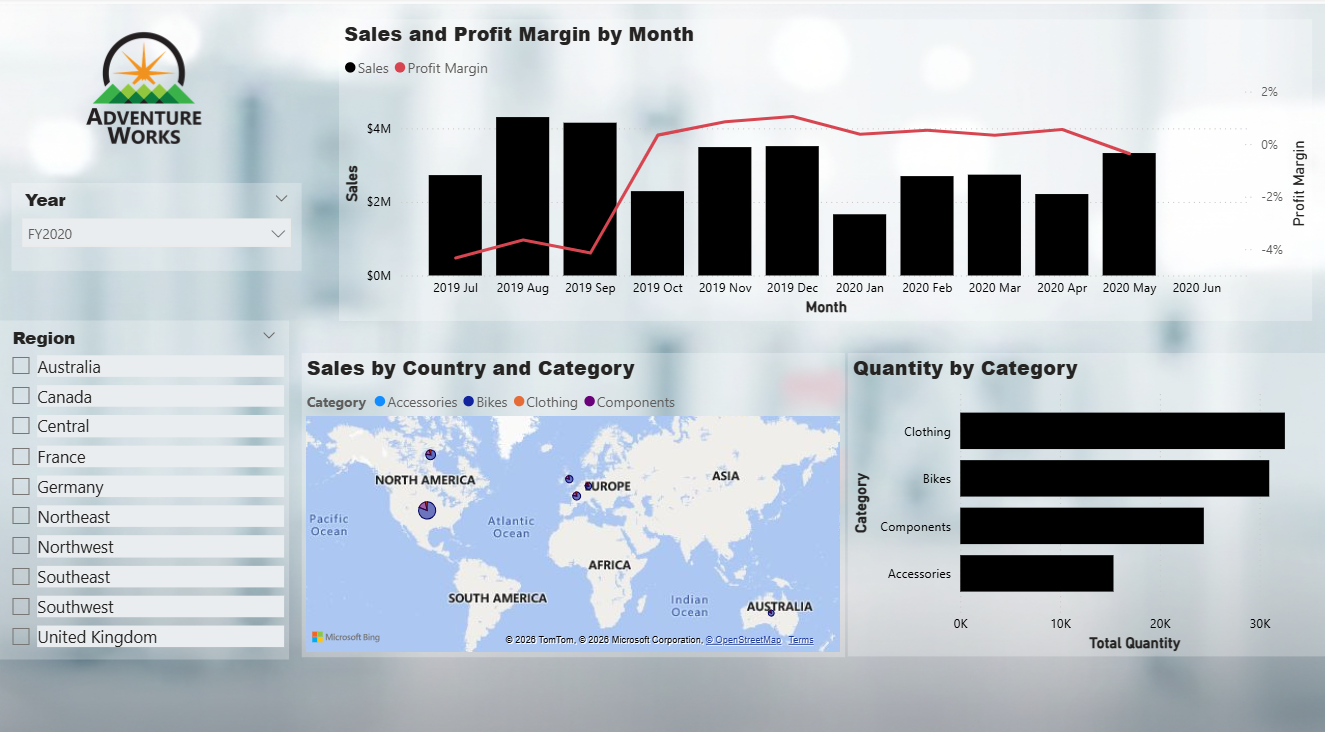

What the dashboard file says about the page in this screenshot:
{"tool":"powerbi","page":{"name":"Overview","canvas":[1280,720],"ordinal":0},"visuals":[{"type":"slicer","fields":{"Values":["Date Table.Display Year for Filter"]},"box":[12.2,178.5,280,70.9],"z":0},{"type":"slicer","fields":{"Values":["Region.Region"]},"box":[12.1,272.7,279.9,326.9],"z":1000},{"type":"lineStackedColumnComboChart","fields":{"Category":["Date Table.Year Month for combo chart"],"Y":["Sum(Sales.Sales)"],"Y2":["Sales.Profit Margin"]},"box":[327.7,20.8,939.1,291],"z":2000},{"type":"map","fields":{"Category":["Region.Country"],"Series":["Product.Category"],"Size":["Sum(Sales.Sales)"]},"box":[292.3,342.4,524.6,293.5],"z":3000},{"type":"clusteredBarChart","title":" Quantity by Category","fields":{"Category":["Product.Category"],"Y":["Sum(Sales.Quantity)"]},"box":[819.3,377.9,461,258],"z":4000},{"type":"image","box":[30.6,20.8,218.9,133.3],"z":5000}]}

Visuals, with their boxes on the page's 1280x720 design canvas (x1, y1, x2, y2). These are canvas units, not pixel positions in the 1325x732 screenshot, which may show the page scaled, cropped or inside an application window:
slicer - Date Table.Display Year for Filter: box(12, 178, 292, 249)
slicer - Region.Region: box(12, 273, 292, 600)
lineStackedColumnComboChart - Date Table.Year Month for combo chart x Sum(Sales.Sales): box(328, 21, 1267, 312)
map - Region.Country x Product.Category: box(292, 342, 817, 636)
" Quantity by Category" clusteredBarChart: box(819, 378, 1280, 636)
image: box(31, 21, 250, 154)
